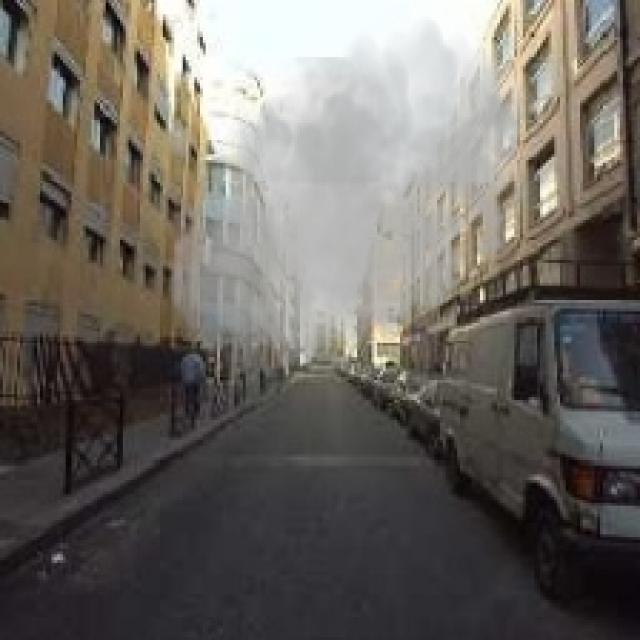Smoke: (160, 3, 534, 383)
